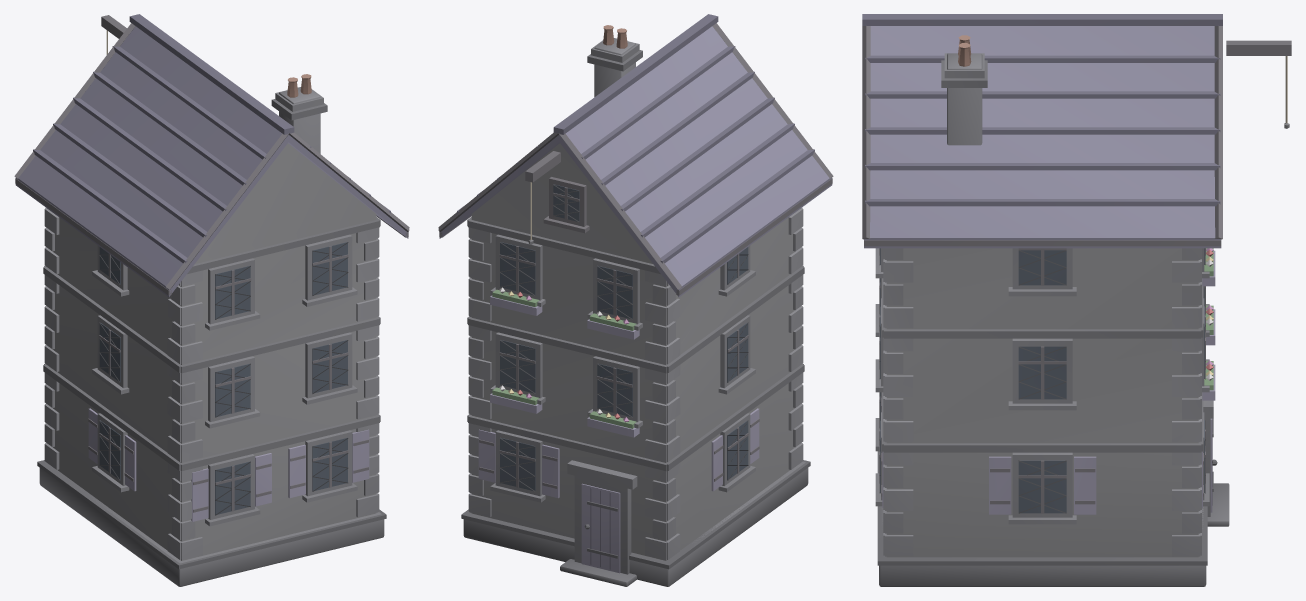
The model's file is townhouse_storm.gltf.
The picture shows the model from 3 angles, left to right: view 1: azimuth 30°, elevation 25°; view 2: azimuth 150°, elevation 25°; view 3: azimuth 270°, elevation 25°; orthographic projection. The views are drawn at different scales.
Parts seen in each view (by area): view 1: Body; view 2: Body; view 3: Body.
Boxes of the visible parts, x1,y1,x2,y2 form: Body: (14, 14, 409, 586); Body: (438, 14, 833, 586); Body: (862, 14, 1291, 586).
Size of the model in its own units: 6.52 by 11.37 by 8.54.
